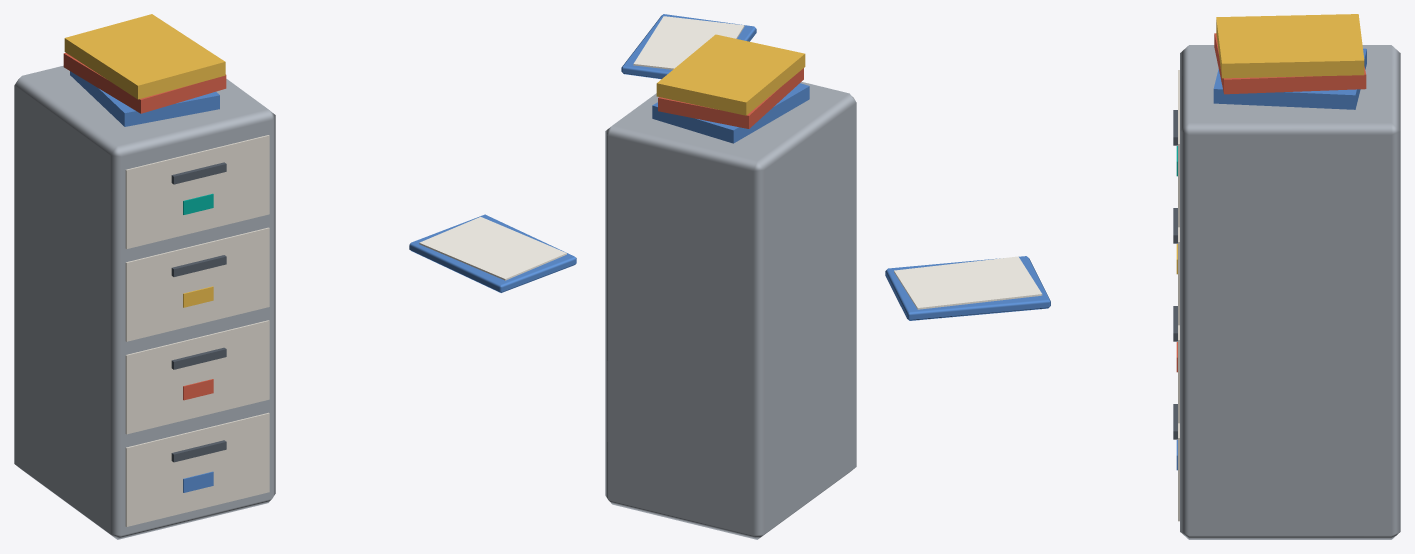
File: station_special_ausstattung_1_2.glb
3 views of the same model, side by side, from view 1: azimuth 30°, elevation 25°; view 2: azimuth 150°, elevation 25°; view 3: azimuth 270°, elevation 25° (orthographic). The views are drawn at different scales.
Parts seen in each view (by area): view 1: station_special_ausstattung_1_2; view 2: station_special_ausstattung_1_2; view 3: station_special_ausstattung_1_2.
Part boxes in pixels (x1,y1,x2,y2): station_special_ausstattung_1_2: (14,14,576,539); station_special_ausstattung_1_2: (605,14,856,539); station_special_ausstattung_1_2: (885,14,1400,539).
Size of the model in its own units: 0.8894 by 1.11 by 1.12.
